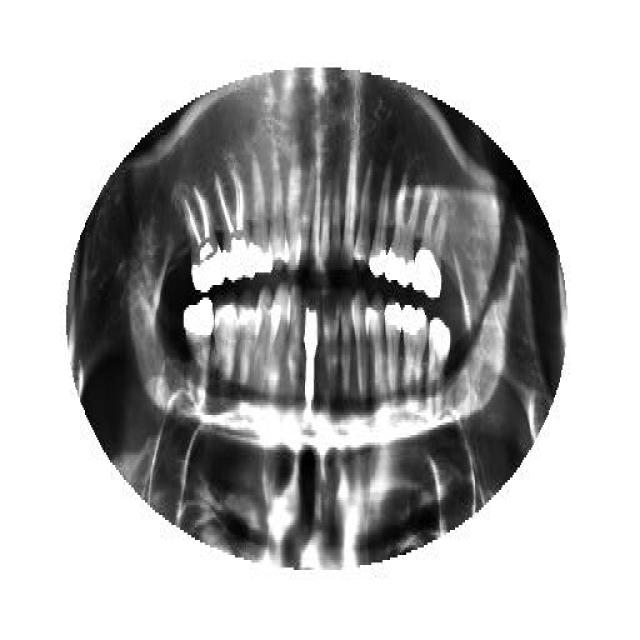Fillings: (412, 190, 446, 300), (386, 180, 420, 288), (246, 148, 274, 278), (370, 160, 394, 280), (400, 302, 428, 402), (184, 298, 212, 382)
Implant: (176, 185, 225, 295), (216, 167, 255, 285), (301, 298, 319, 402)
